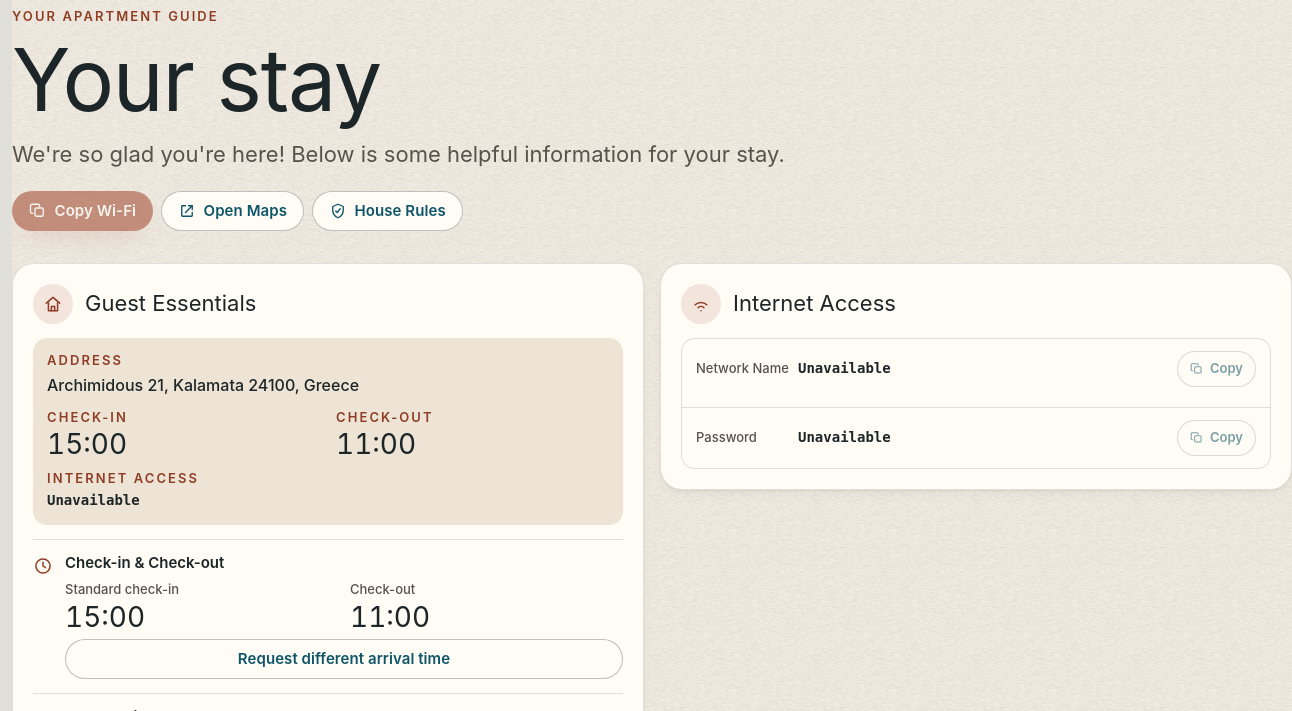
Test: check-in arrival-time request › explains that requests are closed once the check-in date has passed
Click the button "Request different arrival time". click: (344, 659)
box: [65,639,623,679]
(page scrolled)
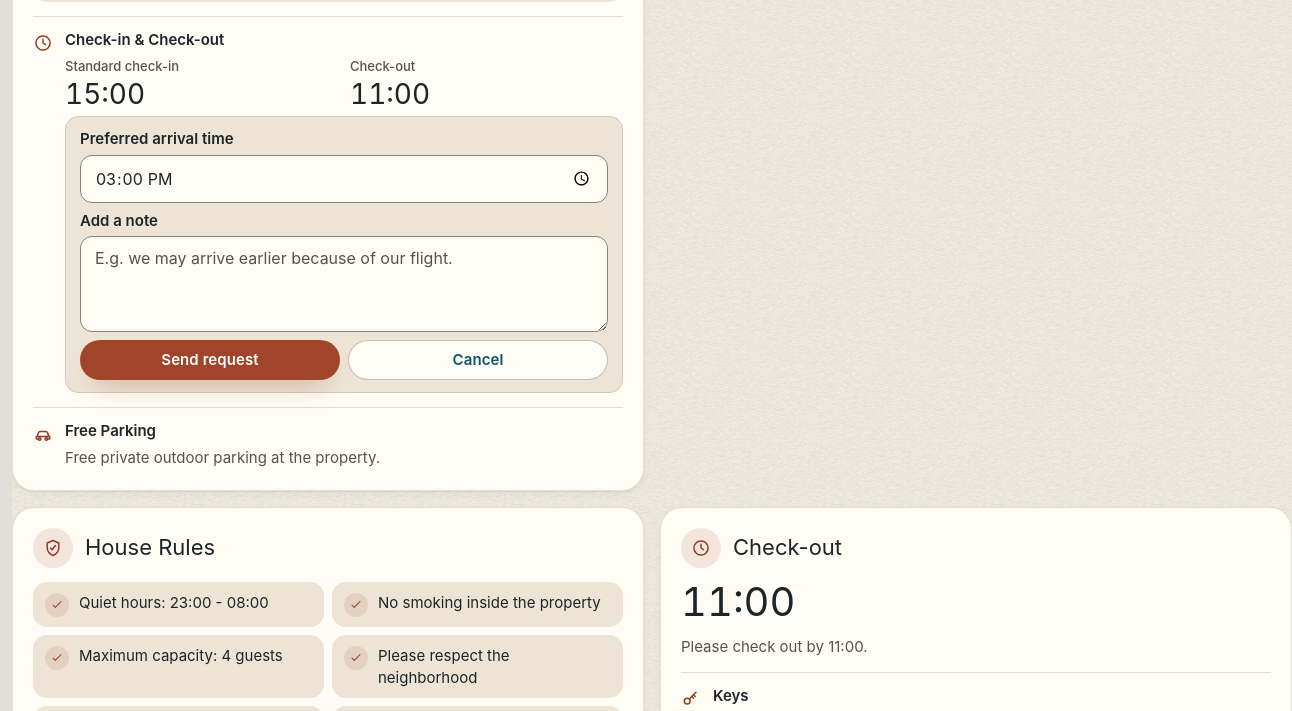
Click the button "Send request". click: (210, 360)
box: [80,340,340,380]
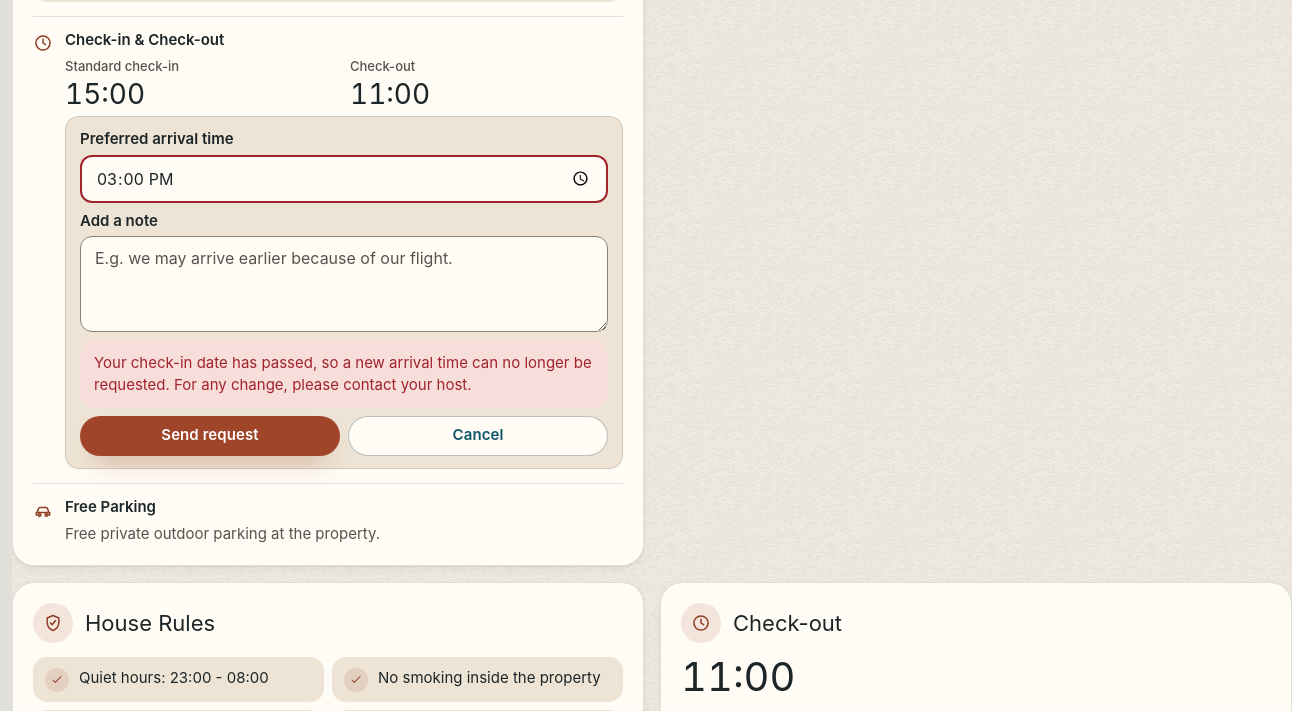
Expected: the message shows "Your check-in date has passed", [94,353,592,394]
